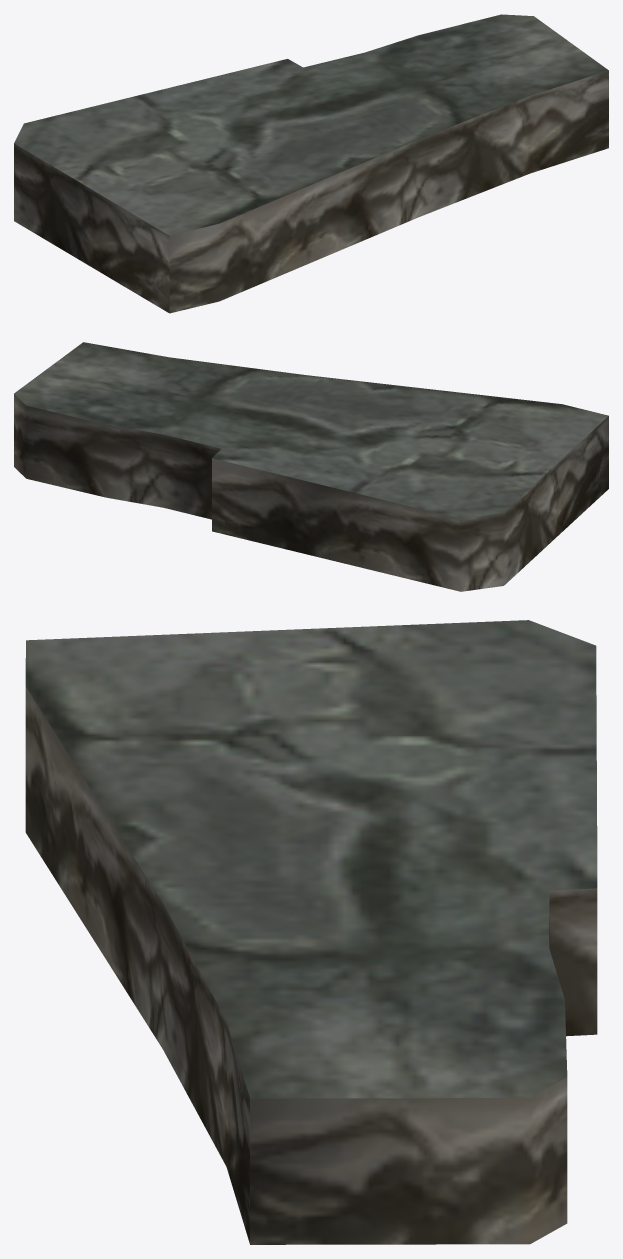
File: Z_dizhuan007.fbx
The picture shows the model from 3 angles, top to bottom: view 1: azimuth 30°, elevation 25°; view 2: azimuth 150°, elevation 25°; view 3: azimuth 270°, elevation 25°; orthographic projection. The views are drawn at different scales.
Parts seen in each view (by area): view 1: Z_dizhuan007; view 2: Z_dizhuan007; view 3: Z_dizhuan007.
Boxes of the visible parts, x1,y1,x2,y2 form: Z_dizhuan007: (14,14,608,313); Z_dizhuan007: (14,342,608,591); Z_dizhuan007: (25,620,597,1244).
Bounding box in the file's own units: 139 × 19.8 × 70.13.
